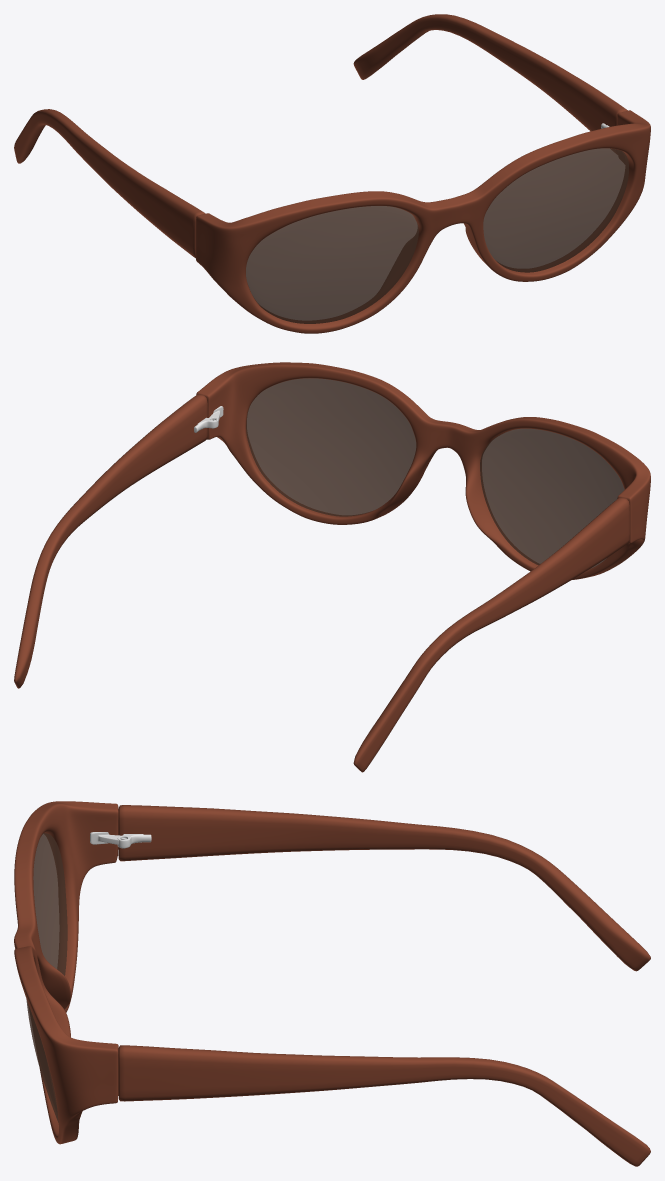
File: kadri-sun-sbf-manuka_medium.glb
3 views of the same model, one above another, from view 1: azimuth 30°, elevation 25°; view 2: azimuth 150°, elevation 25°; view 3: azimuth 270°, elevation 25° (orthographic). The views are drawn at different scales.
Visible parts, largest first — view 1: lenses, face_front, left_temple, right_temple; view 2: lenses, face_front, right_temple, left_temple; view 3: left_temple, right_temple, face_front, lenses.
Part boxes in pixels (box(x1,y1,x2,y2)): lenses: box(246, 148, 628, 323); face_front: box(196, 110, 650, 333); left_temple: box(353, 14, 627, 152); right_temple: box(14, 109, 205, 258); lenses: box(246, 378, 624, 568); face_front: box(196, 362, 650, 579); right_temple: box(353, 497, 629, 772); left_temple: box(14, 394, 207, 688); left_temple: box(118, 1045, 650, 1166); right_temple: box(118, 805, 650, 971); face_front: box(14, 801, 118, 1144); lenses: box(26, 833, 67, 1122).
Size of what is drawn, in the model's own units: 0.1367 by 0.0428 by 0.1479.
